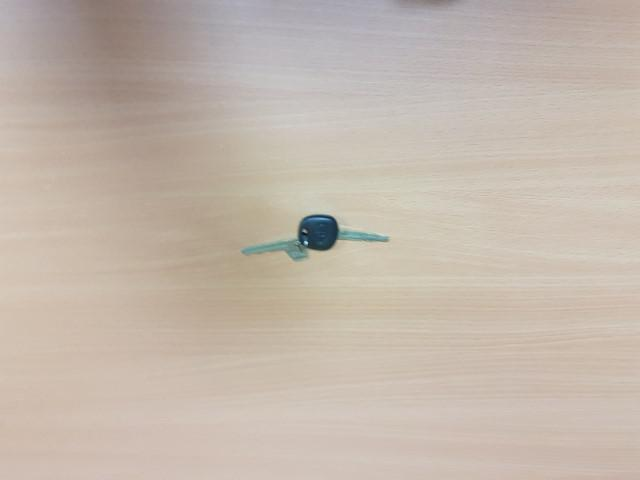key: (294, 211, 392, 252)
